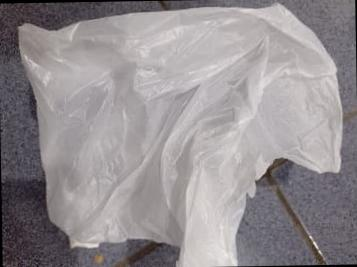Plastik: (19, 4, 341, 266)
